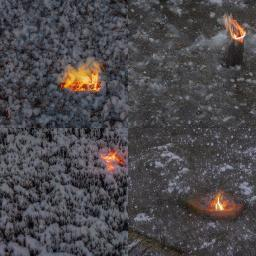Small fire: (176, 176, 256, 231), (85, 130, 146, 186), (53, 46, 112, 103), (212, 0, 256, 75)
